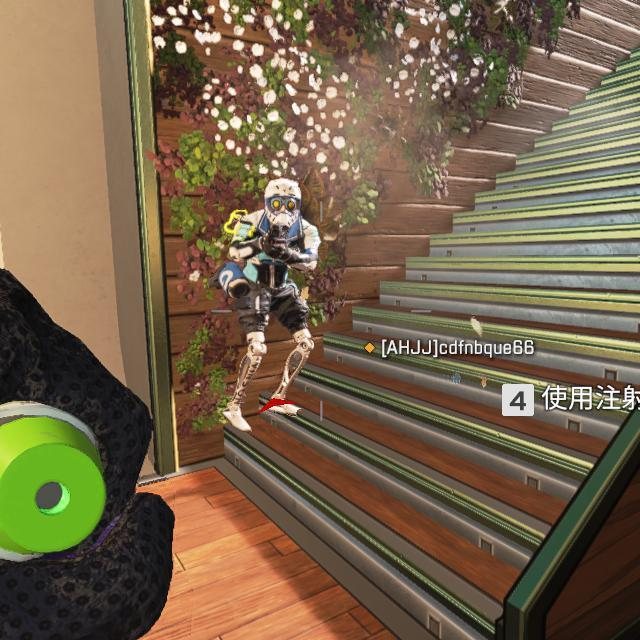avatar: (217, 179, 322, 433)
